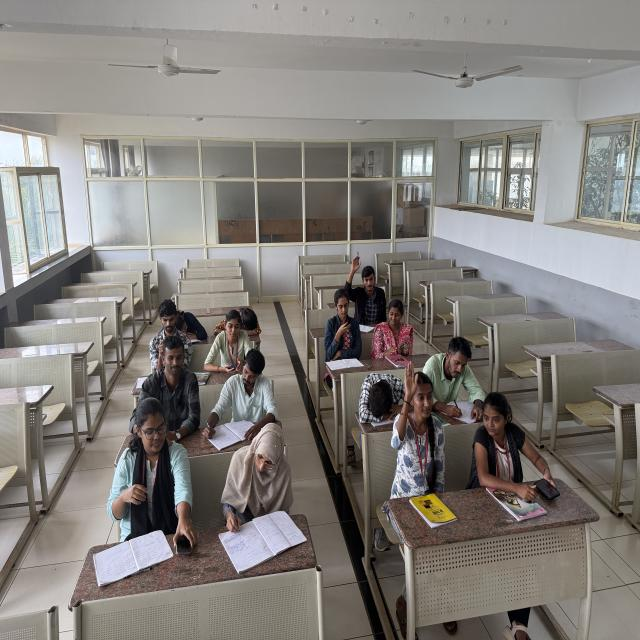Hand Rising: (396, 355, 449, 483), (340, 238, 394, 328)
Sleeping: (349, 354, 409, 452), (216, 279, 276, 344), (173, 286, 214, 352)
Using Phone: (475, 392, 568, 510), (309, 284, 365, 374), (376, 284, 424, 365), (202, 306, 251, 380)
Writing: (218, 414, 298, 564), (418, 320, 496, 439), (194, 365, 278, 451)
